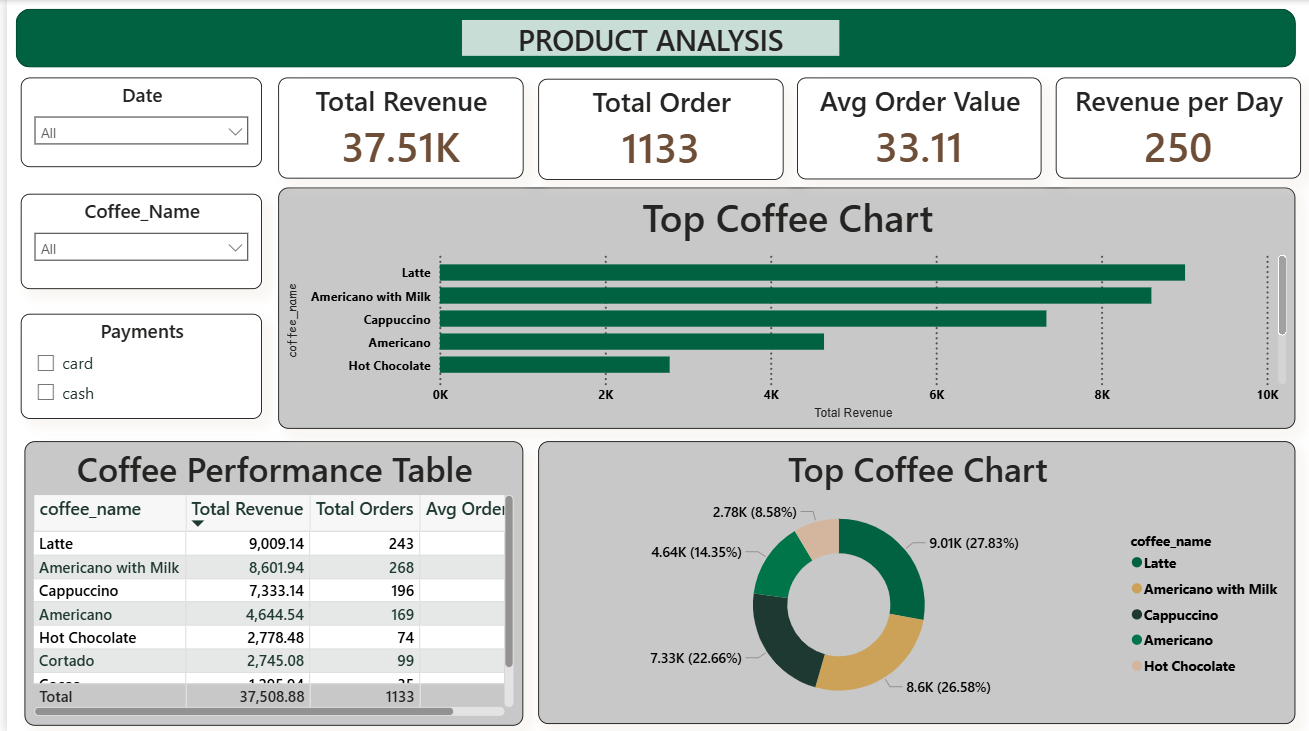

This screenshot's page, from the dashboard's own definition file:
{"tool":"powerbi","page":{"name":"PRODUCT ANALYSIS","canvas":[1280,720],"ordinal":2},"visuals":[{"type":"tableEx","title":"Coffee Performance Table","fields":{"Values":["index.coffee_name","DateTable.Total Revenue","DateTable.Total Orders","DateTable.Avg Order Value"]},"box":[17.2,433.1,489.6,279],"z":0},{"type":"barChart","title":"Top Coffee Chart","fields":{"Category":["index.coffee_name"],"Y":["DateTable.Total Revenue"]},"box":[266.3,184.1,998.8,236.8],"z":1000},{"type":"donutChart","title":"Top Coffee Chart","fields":{"Category":["index.coffee_name"],"Y":["DateTable.Total Revenue"]},"box":[521.5,433.1,743.6,277.3],"z":2000},{"type":"card","title":"Total Revenue","fields":{"Values":["DateTable.Total Revenue"]},"box":[266.5,76.1,240.5,99.4],"z":3000},{"type":"card","title":"Total Order","fields":{"Values":["DateTable.Total Orders"]},"box":[521.7,77.3,240.5,99.4],"z":4000},{"type":"card","title":"Avg Order Value","fields":{"Values":["DateTable.Avg Order Value"]},"box":[775.7,76.1,240,100],"z":5000},{"type":"card","title":"Revenue per Day","fields":{"Values":["DateTable.Revenue per Day"]},"box":[1029.5,76.1,240.5,99.4],"z":6000},{"type":"slicer","title":"Date","fields":{"Values":["DateTable.Date"]},"box":[13.5,76.1,236.8,88.3],"z":7000},{"type":"slicer","title":"Coffee_Name","fields":{"Values":["index.coffee_name"]},"box":[13.5,189.6,236.8,93.3],"z":8000},{"type":"slicer","title":"Payments","fields":{"Values":["index.cash_type"]},"box":[13.5,308,236.8,103.1],"z":9000},{"type":"shape","box":[8.6,8.6,1256.4,57.7],"z":10000},{"type":"textbox","title":"PRODUCT ANALYSIS","box":[446.6,19.6,370.6,35.6],"z":11000}]}

Visuals, with their boxes in screenshot pixels (x1, y1, x2, y2), scaled from the page's 1280x720 canvas onto the 1309x731 screenshot:
"Coffee Performance Table" tableEx: 18/440/518/723
"Top Coffee Chart" barChart: 272/187/1294/427
"Top Coffee Chart" donutChart: 533/440/1294/721
"Total Revenue" card: 273/77/518/178
"Total Order" card: 534/78/779/179
"Avg Order Value" card: 793/77/1039/179
"Revenue per Day" card: 1053/77/1299/178
"Date" slicer: 14/77/256/167
"Coffee_Name" slicer: 14/192/256/287
"Payments" slicer: 14/313/256/417
shape: 9/9/1294/67
"PRODUCT ANALYSIS" textbox: 457/20/836/56
